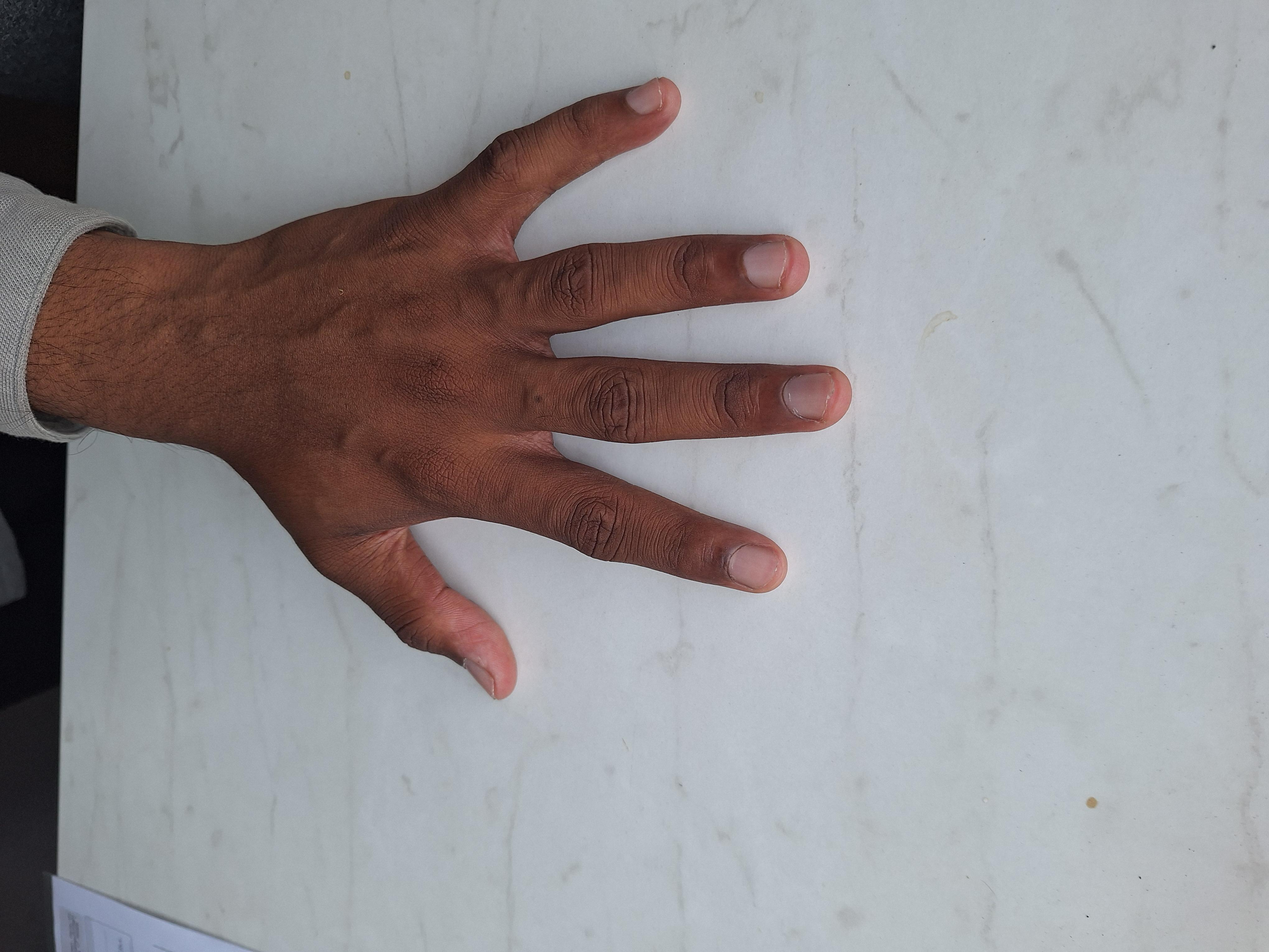Fingernail: (783, 373, 833, 421), (728, 545, 779, 589), (744, 241, 786, 289), (627, 78, 661, 115), (464, 660, 495, 700)
